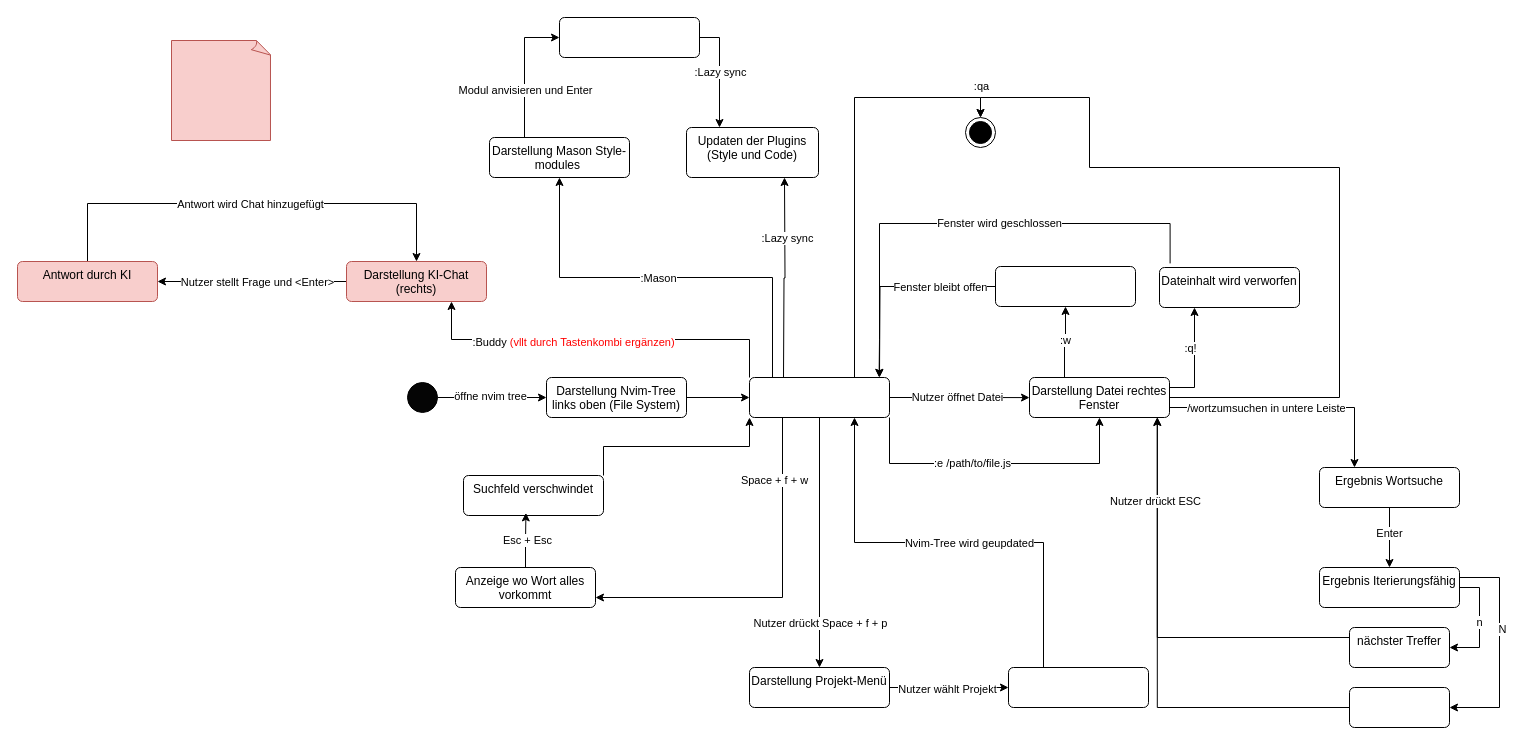
The diagram is 1525 pixels wide and 745 high, and some of its shapes have lost their labels. Here are the shapes that lost their labels. From the top down, the box of each, then its label:
(558, 16, 700, 58): Style-Modul geordert
(170, 40, 272, 140): :e app/code....file.js öffnet diese
(994, 266, 1136, 306): geänderter Dateinhalt wird gespeichert
(748, 376, 890, 418): Ausgangszustand
(1008, 666, 1148, 708): Projekt wird geöffnet
(1348, 686, 1450, 728): letzter Treffer
